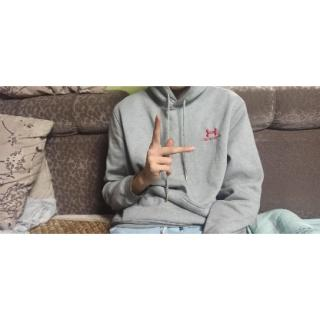DHAA: (136, 114, 196, 184)
